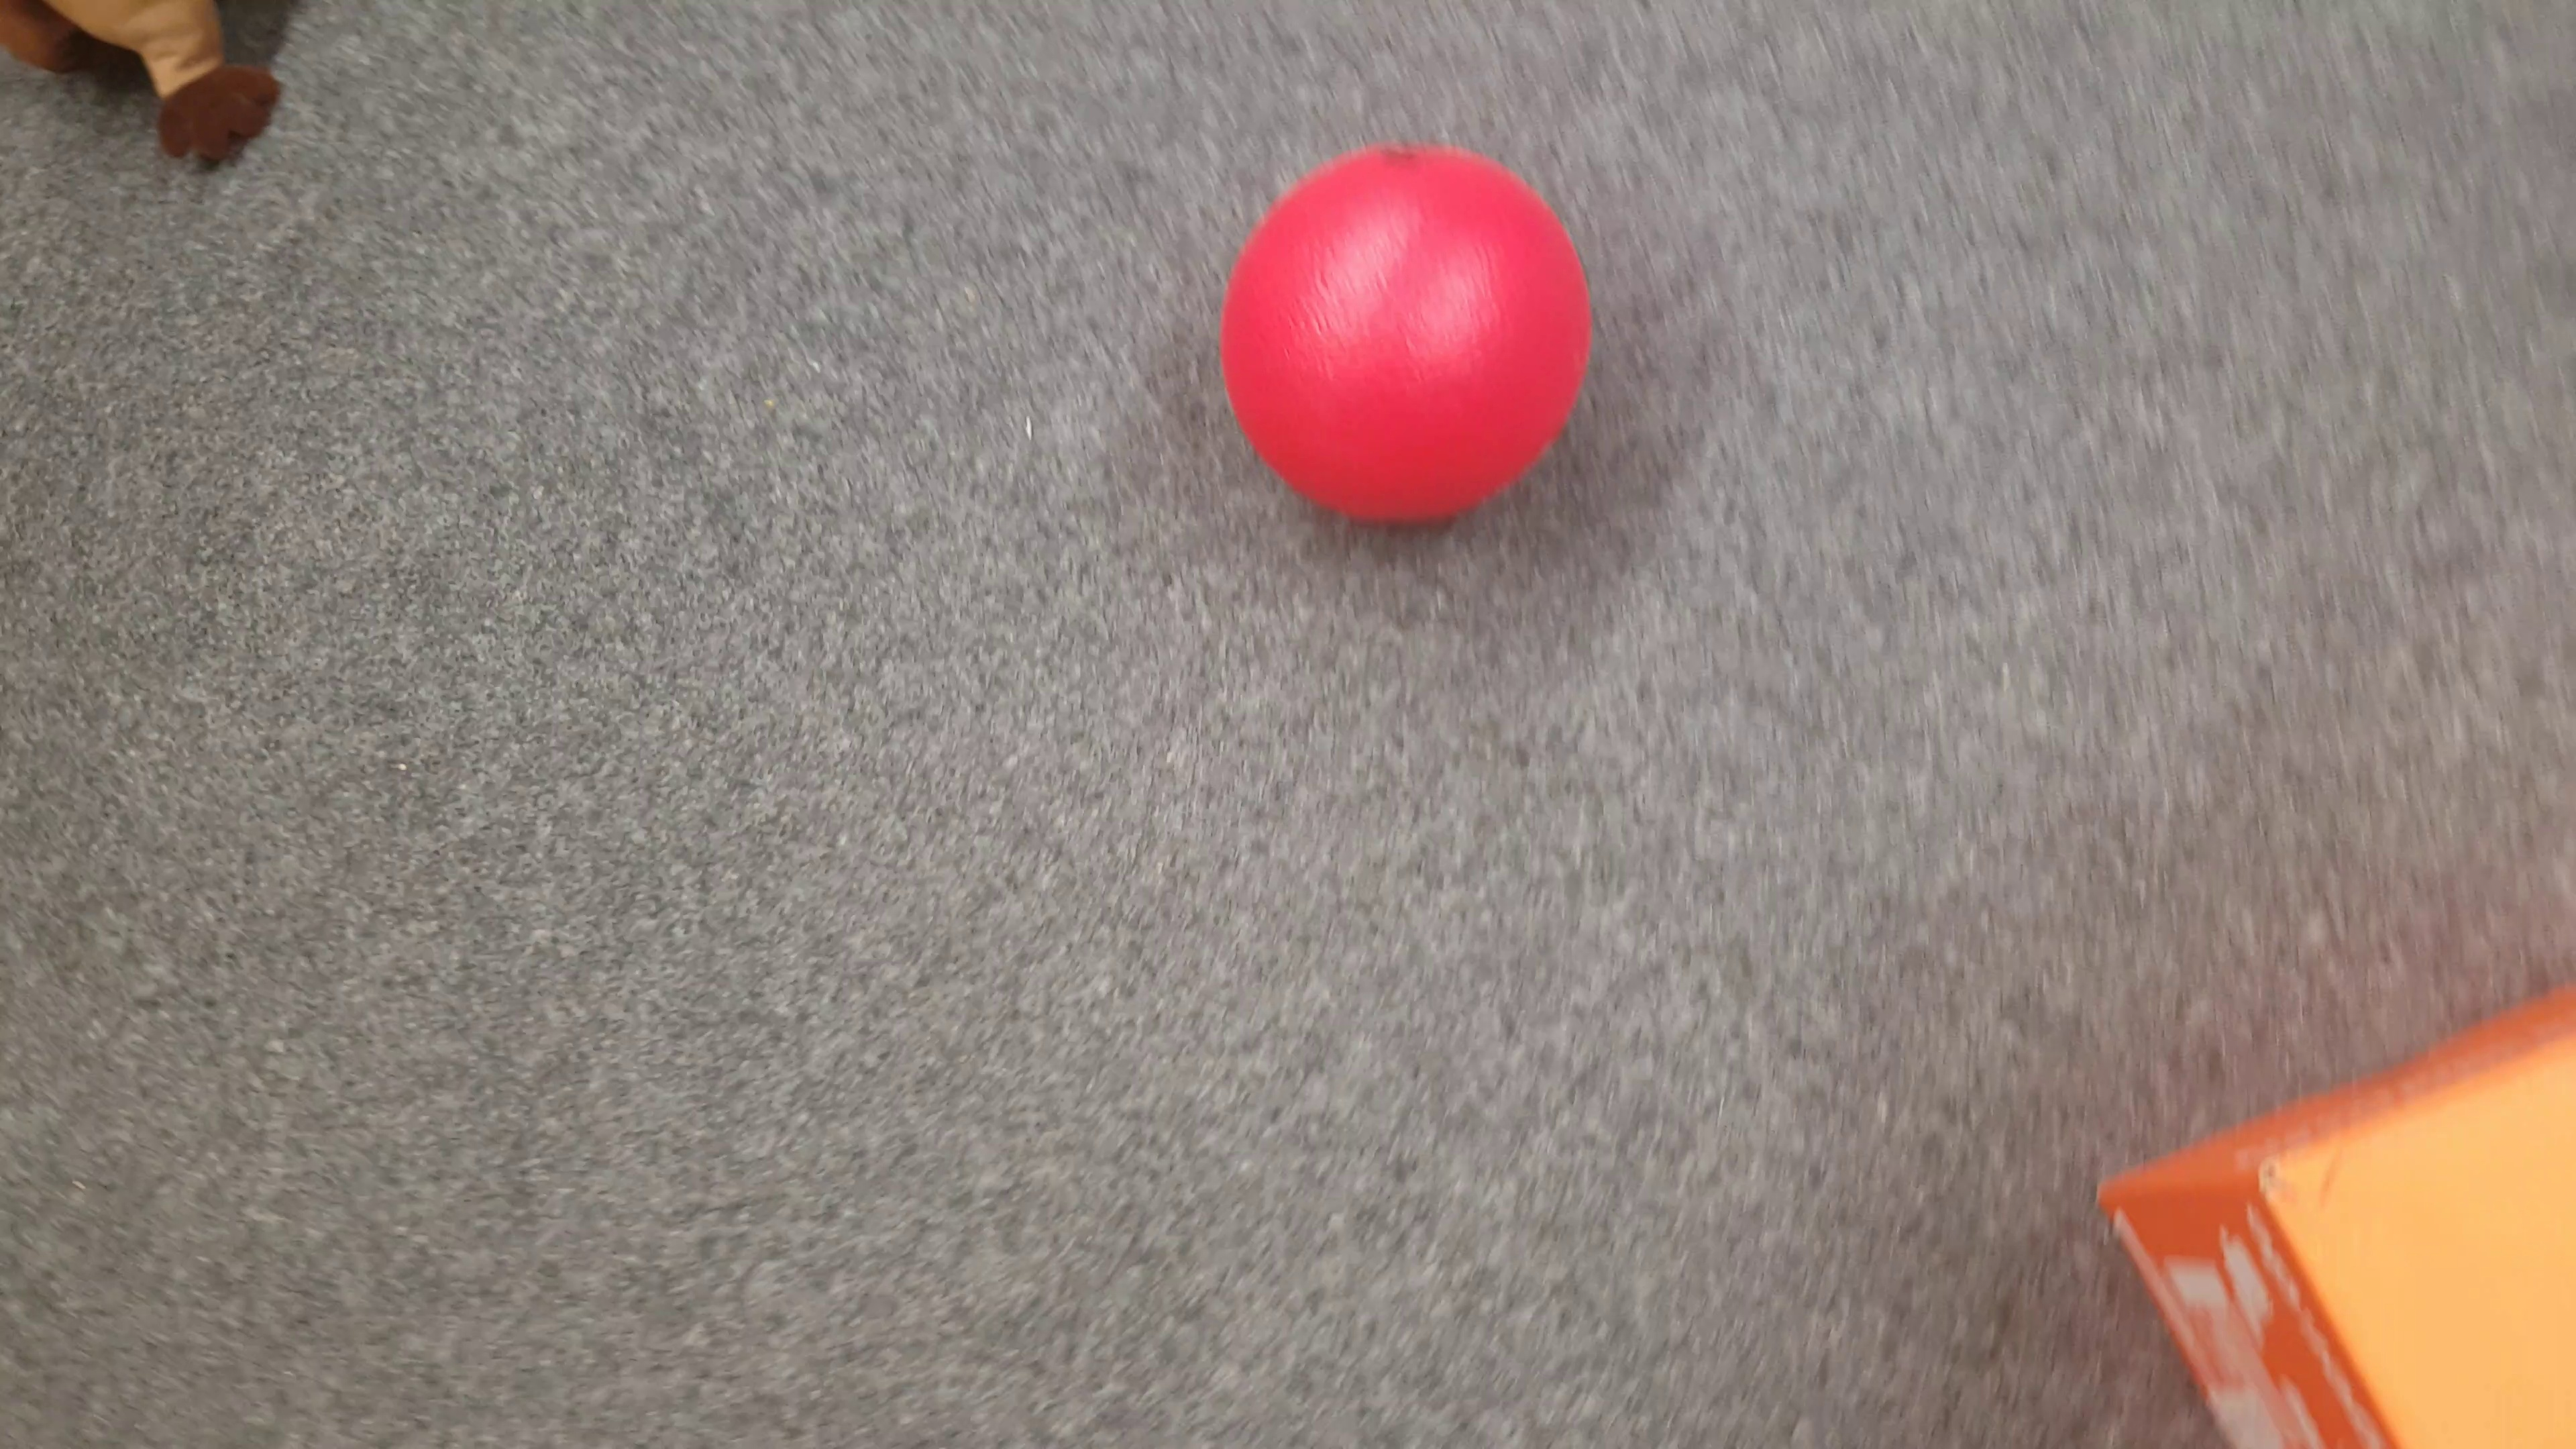grasp: (5, 16, 267, 175)
kick: (1221, 140, 1594, 524)
push: (2100, 961, 2576, 1426)
